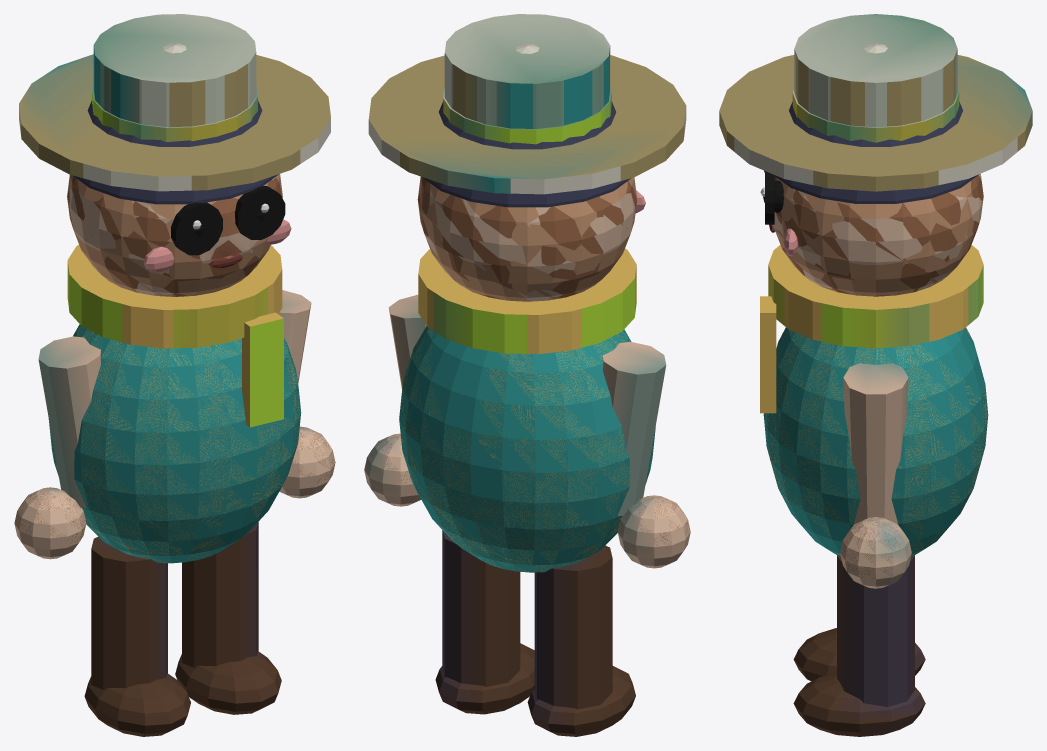
The model's file is villagers_m0.glb.
The picture shows the model from 3 angles, left to right: view 1: azimuth 30°, elevation 25°; view 2: azimuth 150°, elevation 25°; view 3: azimuth 270°, elevation 25°; orthographic projection.
Parts seen in each view (by area): view 1: Hero_head, Hero_body, Villager3_head, Hero_legL, Hero_legR, Hero_armL, Villager0_head, Villager2_body, Villager1_head, Villager2_head, Hero_armR, Villager2_legR (+1 smaller); view 2: Hero_body, Hero_head, Villager3_head, Hero_legL, Hero_legR, Villager1_head, Hero_armL, Villager0_head, Villager2_body, Hero_armR, Villager2_head; view 3: Hero_head, Hero_body, Villager3_head, Hero_legR, Hero_armR, Villager0_head, Villager1_head, Villager2_body, Hero_legL, Villager2_head, Villager2_legR, Villager1_armR.
Part boxes in pixels (box(x1,y1,x2,y2)): Hero_head: box(19, 48, 330, 427); Hero_body: box(48, 324, 301, 563); Villager3_head: box(19, 14, 330, 296); Hero_legL: box(84, 536, 190, 736); Hero_legR: box(175, 522, 281, 714); Hero_armL: box(14, 336, 100, 559); Villager0_head: box(67, 175, 290, 426); Villager2_body: box(50, 326, 300, 563); Villager1_head: box(67, 43, 287, 296); Villager2_head: box(81, 186, 291, 269); Hero_armR: box(278, 290, 335, 498); Villager2_legR: box(176, 653, 281, 707); Hero_body: box(399, 326, 655, 572); Hero_head: box(369, 48, 686, 353); Villager3_head: box(368, 14, 686, 301); Hero_legL: box(527, 545, 635, 736); Hero_legR: box(435, 530, 534, 714); Villager1_head: box(417, 44, 641, 299); Hero_armL: box(602, 342, 690, 568); Villager0_head: box(418, 178, 643, 354); Villager2_body: box(399, 326, 653, 571); Hero_armR: box(364, 294, 426, 506); Villager2_head: box(429, 188, 645, 300); Hero_head: box(719, 54, 1032, 348); Hero_body: box(763, 327, 988, 555); Villager3_head: box(734, 14, 1017, 296); Hero_legR: box(793, 555, 925, 736); Hero_armR: box(840, 363, 911, 588); Villager0_head: box(760, 180, 983, 413); Villager1_head: box(761, 43, 983, 296); Villager2_body: box(764, 328, 987, 552); Hero_legL: box(793, 628, 925, 681); Villager2_head: box(765, 171, 981, 295); Villager2_legR: box(795, 673, 917, 731); Villager1_armR: box(842, 517, 902, 578).
Size of the model in its own units: 1.1 by 2.24 by 0.9601.
